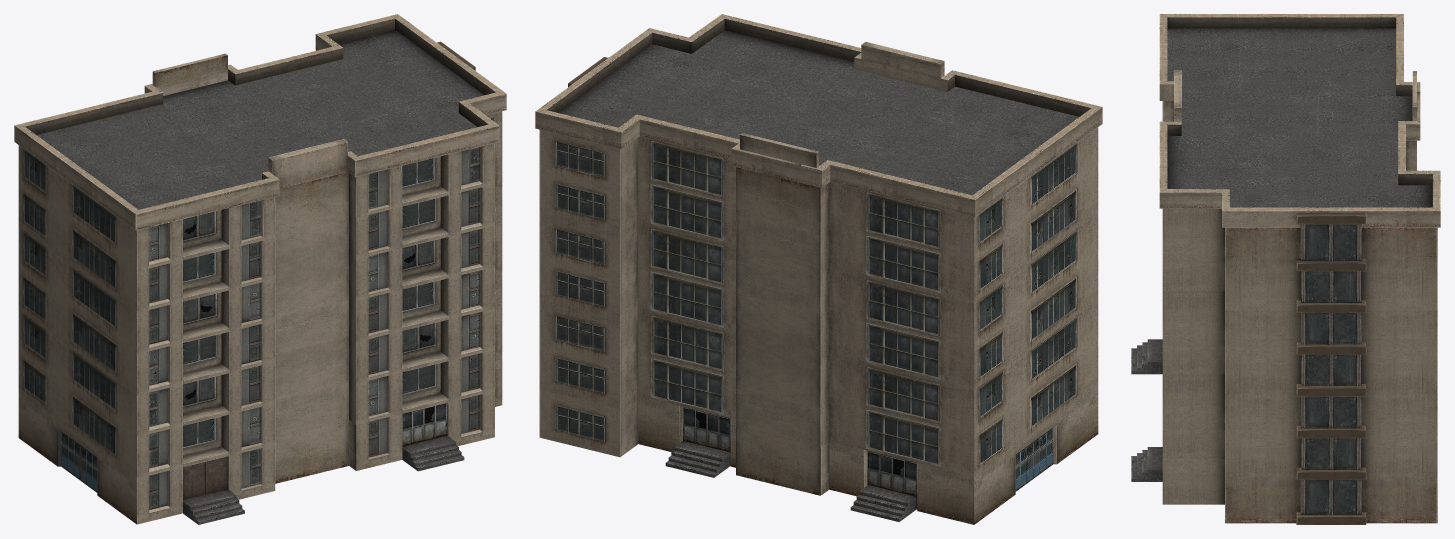
Rendered from buildings_05.FBX.
The picture shows the model from 3 angles, left to right: view 1: azimuth 30°, elevation 25°; view 2: azimuth 150°, elevation 25°; view 3: azimuth 270°, elevation 25°; orthographic projection. The views are drawn at different scales.
Visible parts, largest first — view 1: Object001; view 2: Object001; view 3: Object001.
Boxes of the visible parts, x1,y1,x2,y2 form: Object001: (14,14,506,524); Object001: (535,14,1102,524); Object001: (1131,14,1440,524).
Bounding box in the file's own units: 3074 × 2009 × 2349.
2 materials, 2 textured.
